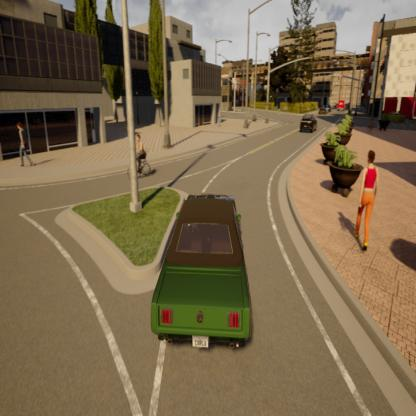Cars: (151, 192, 253, 352), (127, 132, 152, 184), (299, 113, 317, 132)
Pedestrian: (353, 148, 381, 256), (15, 119, 36, 170), (215, 110, 223, 128)
